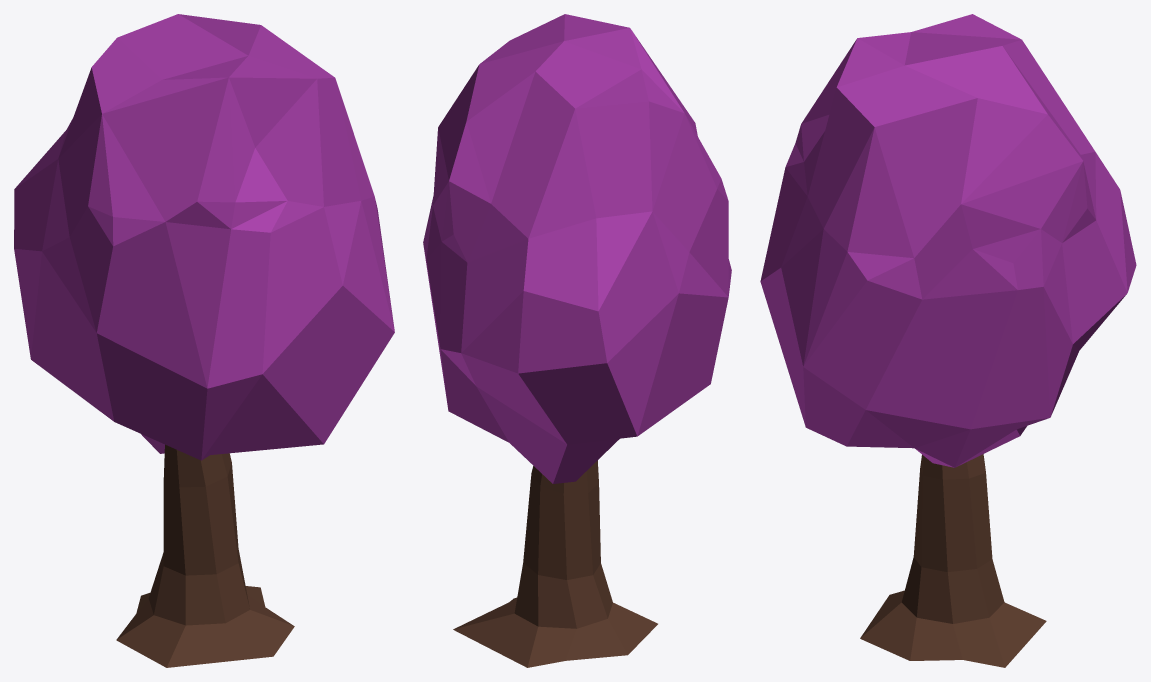
Rendered from tree1.fbx.
The picture shows the model from 3 angles, left to right: view 1: azimuth 30°, elevation 25°; view 2: azimuth 150°, elevation 25°; view 3: azimuth 270°, elevation 25°; orthographic projection. The views are drawn at different scales.
Visible parts, largest first — view 1: Sphere, Cylinder; view 2: Sphere, Cylinder; view 3: Sphere, Cylinder.
Boxes of the visible parts, x1,y1,x2,y2 form: Sphere: [14, 14, 394, 460]; Cylinder: [116, 444, 294, 667]; Sphere: [423, 14, 731, 483]; Cylinder: [453, 460, 657, 667]; Sphere: [760, 14, 1136, 467]; Cylinder: [860, 454, 1046, 667].
Size of the model in its own units: 143 by 298 by 175.
